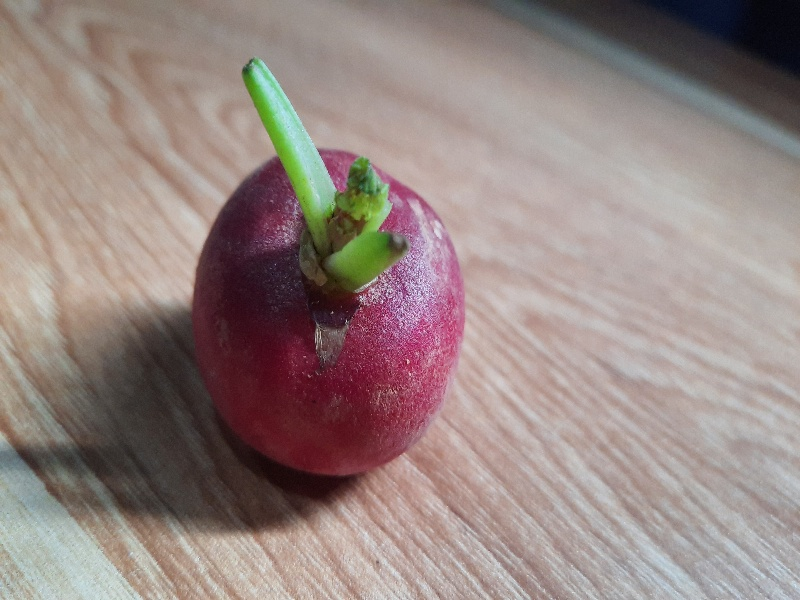vege: (173, 48, 470, 489)
